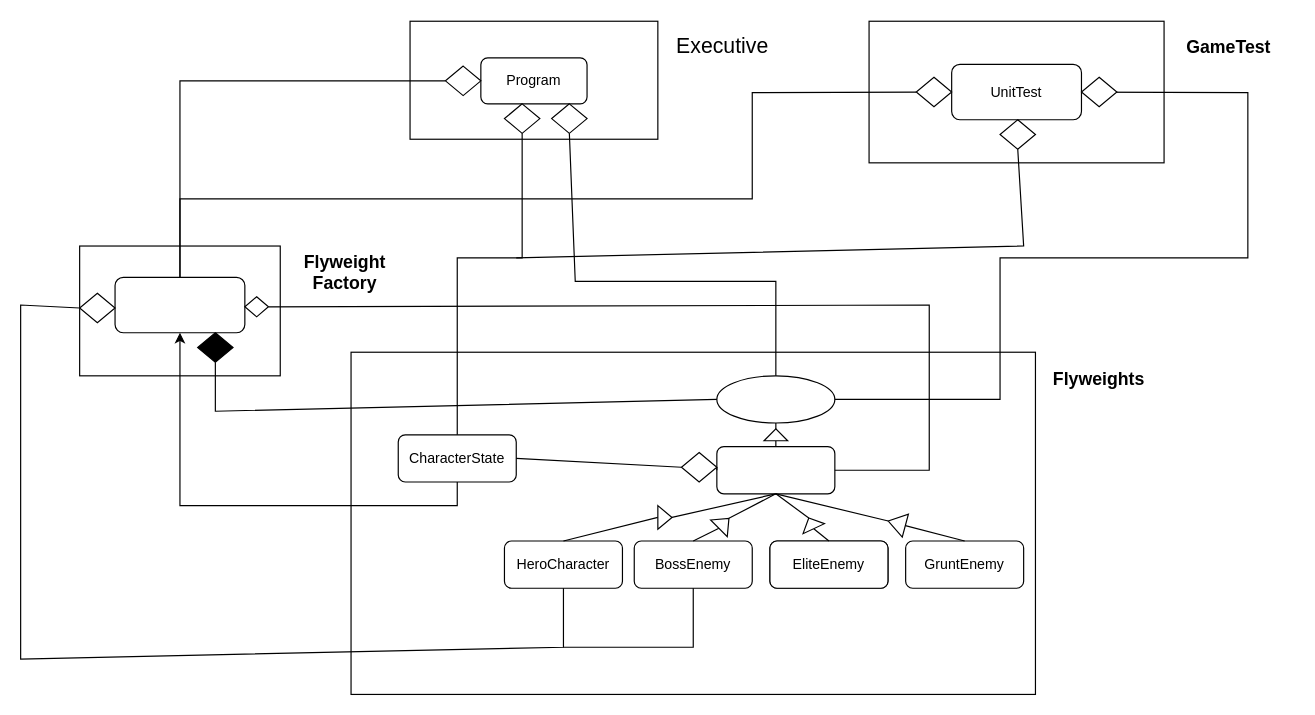
This 1315x715 diagram has some shape labels left out. The shapes that lost their labels are listed below. From the top down, each one's centre as x and y in pixels, then its label:
At point 179,304: "CharacterFactory".
At point 775,399: "ICharacter".
At point 775,469: "Character".
